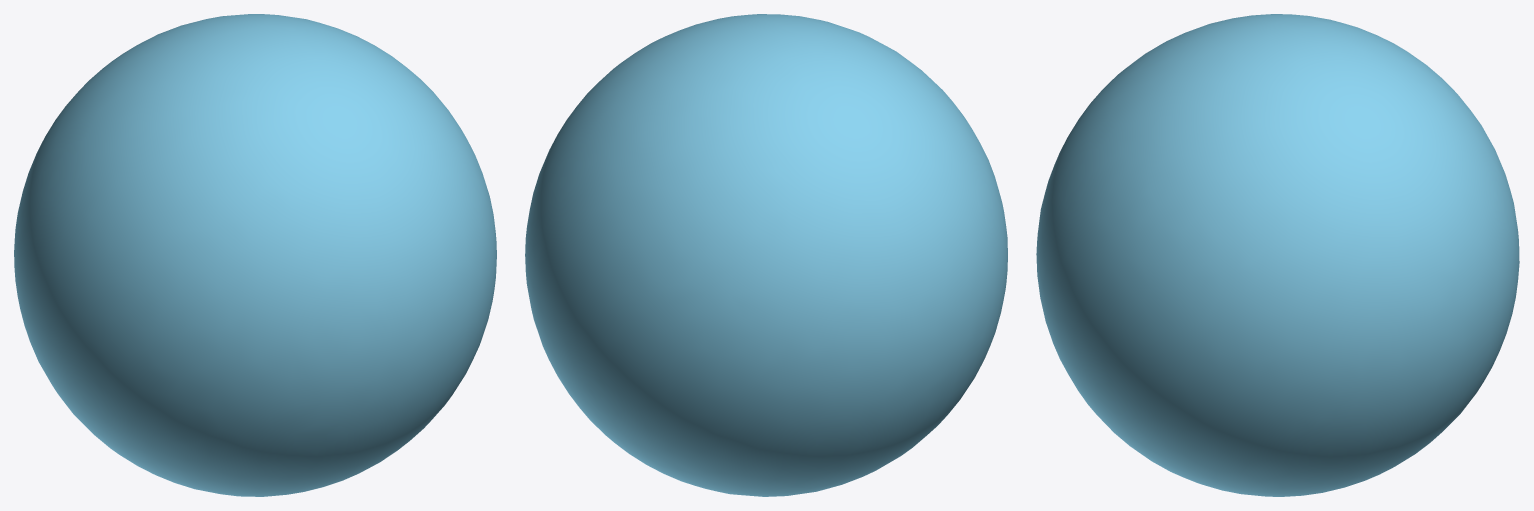
The model's file is core_of_lyoko.obj.
The picture shows the model from 3 angles, left to right: view 1: azimuth 30°, elevation 25°; view 2: azimuth 150°, elevation 25°; view 3: azimuth 270°, elevation 25°; orthographic projection.
Parts seen in each view (by area): view 1: lyoko_core.003; view 2: lyoko_core.003; view 3: lyoko_core.003.
Boxes of the visible parts, box(x1,y1,x2,y2) form: lyoko_core.003: box(14, 14, 496, 496); lyoko_core.003: box(525, 14, 1007, 496); lyoko_core.003: box(1036, 14, 1519, 496).
Bounding box in the file's own units: 7.15 × 7.15 × 7.15.
